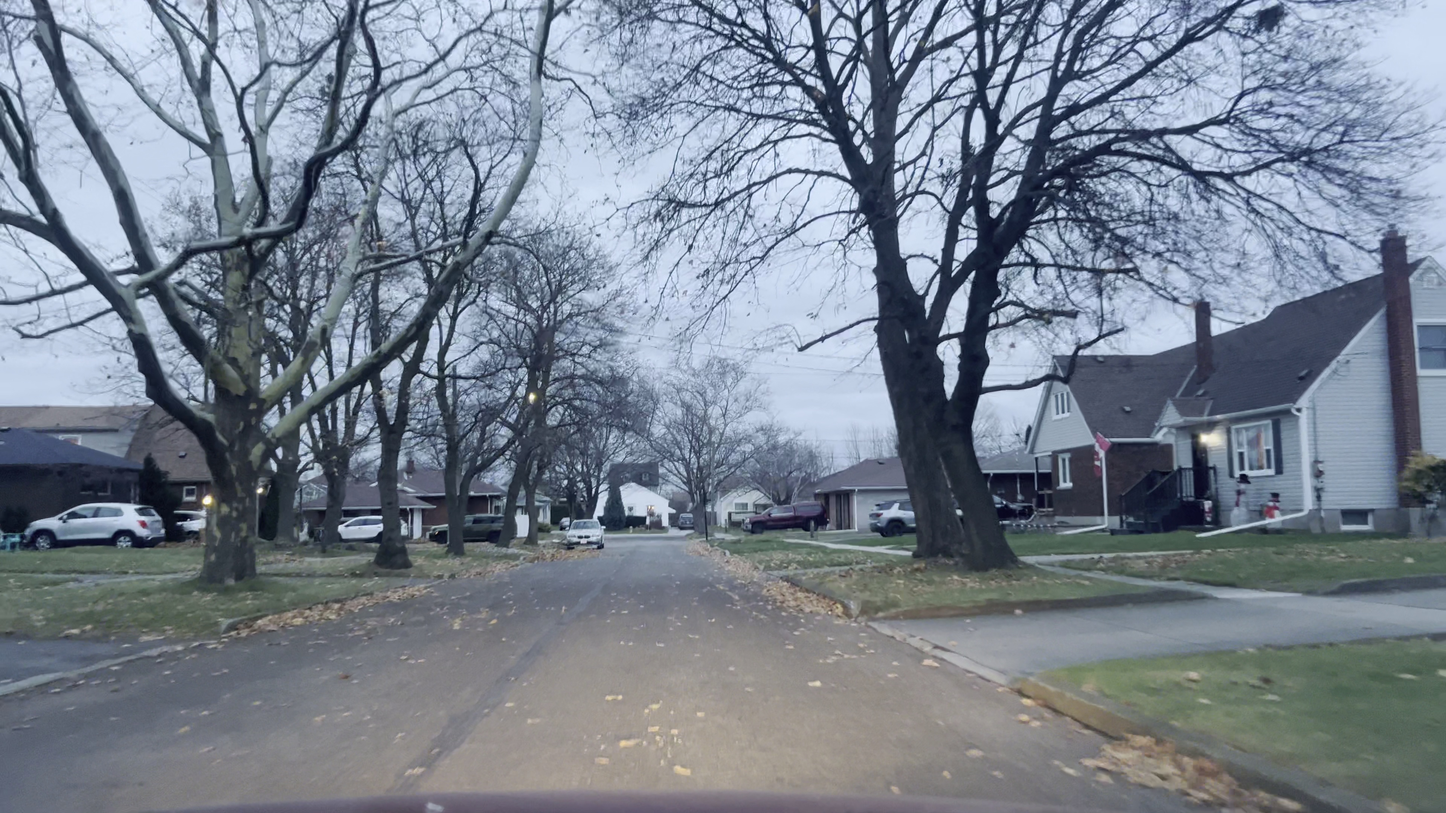cracks: (428, 672, 510, 762)
